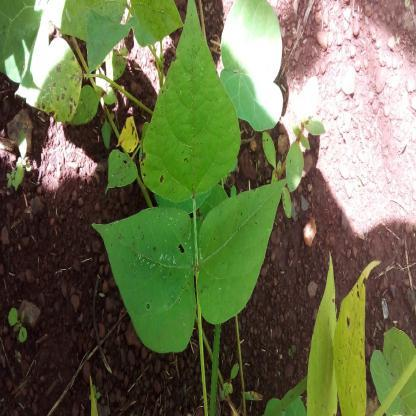Beans_Angular_LeafSpot: (135, 0, 237, 198), (193, 176, 294, 324), (88, 220, 200, 350), (335, 258, 377, 416), (17, 38, 81, 119), (101, 149, 145, 199)
